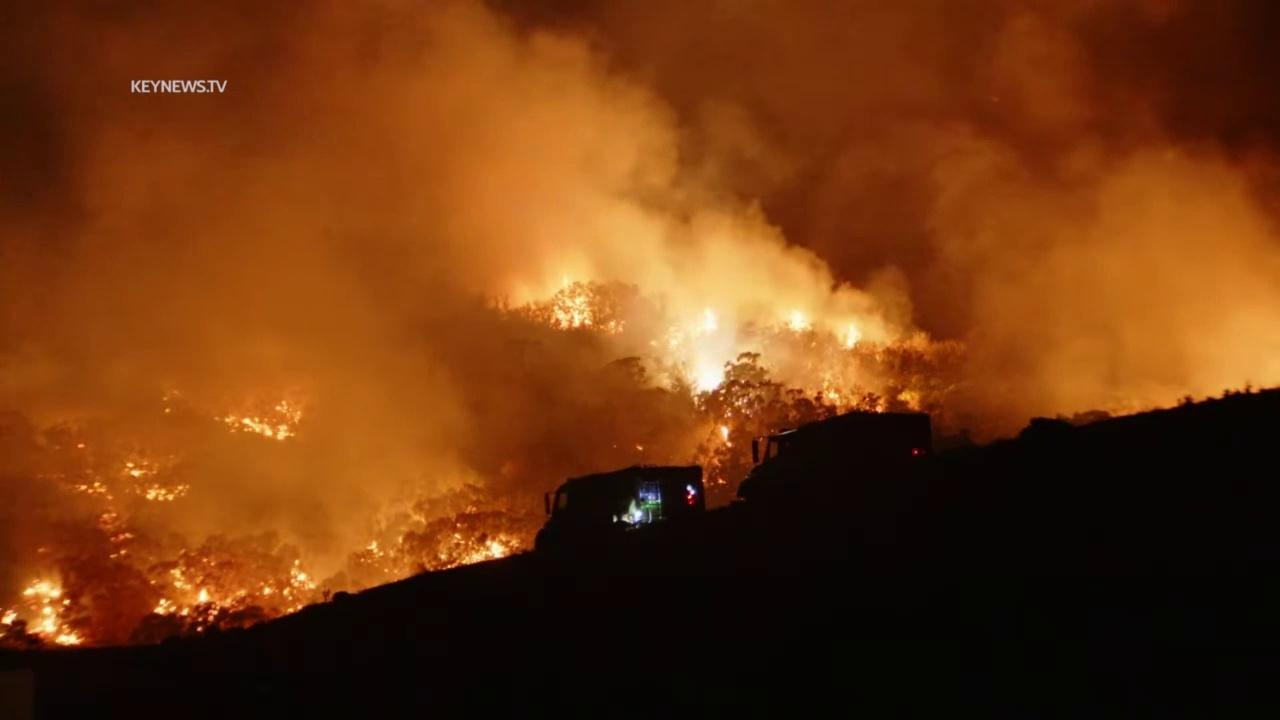fire: (150, 558, 319, 633), (677, 304, 756, 416), (0, 571, 87, 651), (212, 395, 306, 444), (72, 478, 136, 545), (546, 265, 603, 333), (433, 531, 521, 571), (123, 457, 192, 502), (841, 323, 866, 350), (599, 317, 628, 335), (788, 309, 808, 333), (717, 425, 735, 447), (366, 539, 386, 558), (825, 388, 841, 399), (635, 444, 644, 452)
smoke: (0, 0, 1280, 656)
